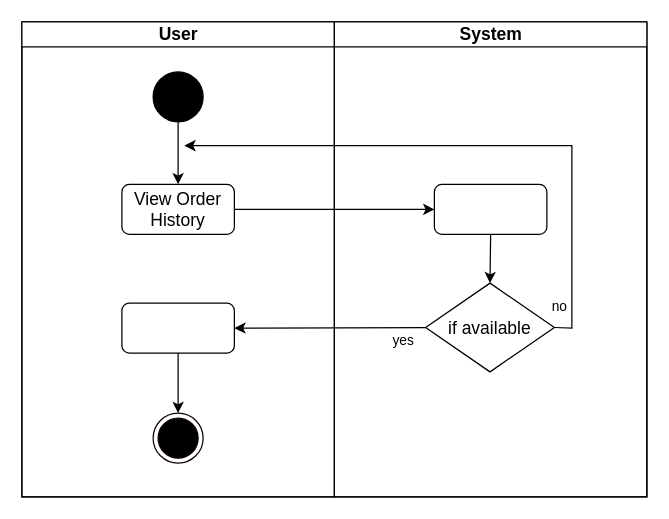
This 669x519 diagram has some shape labels left out. The shapes that lost their labels are listed below. From the top down, each one's centre as x and y in pixels, then its label:
At (x=490, y=208): "view histoy".
At (x=177, y=327): "Show order history".
